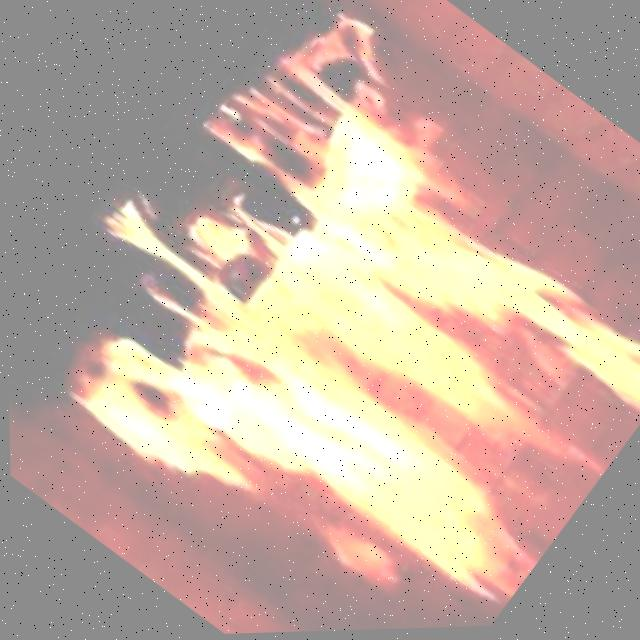Fire: (9, 0, 640, 640)
